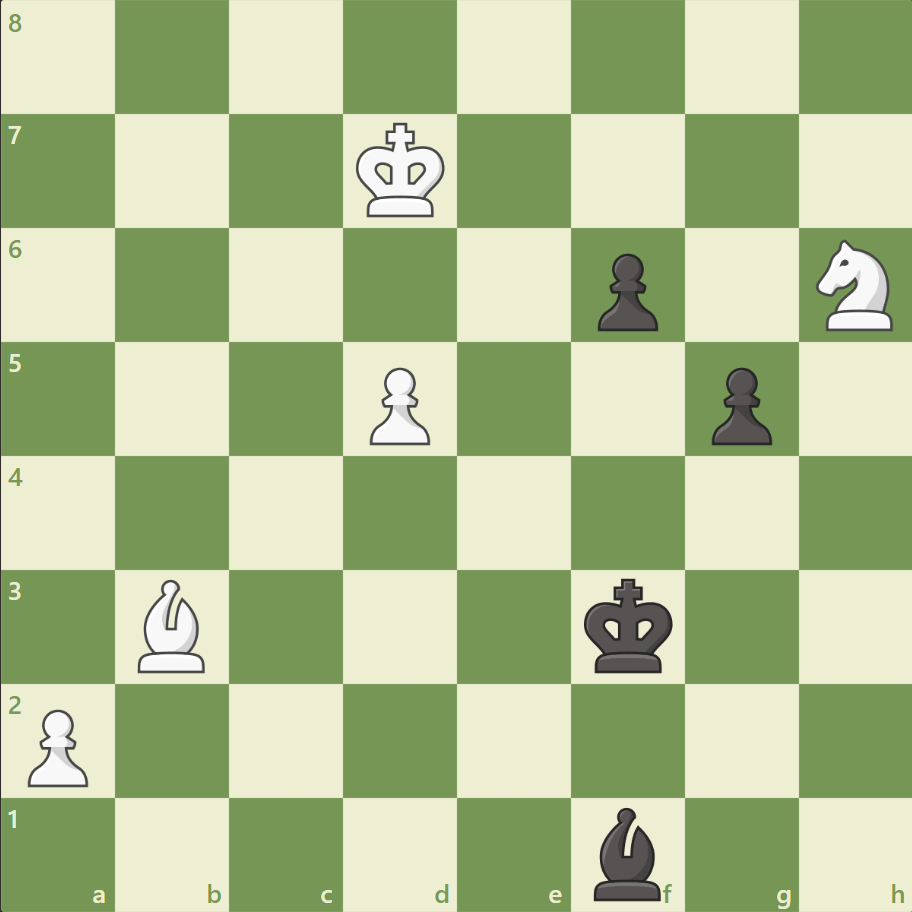B: (131, 574, 215, 676)
K: (351, 117, 451, 225)
N: (806, 234, 903, 337)
P: (20, 700, 95, 791), (361, 359, 435, 450)
b: (585, 801, 669, 904)
k: (579, 571, 679, 679)
p: (701, 359, 776, 450), (588, 246, 662, 337)
